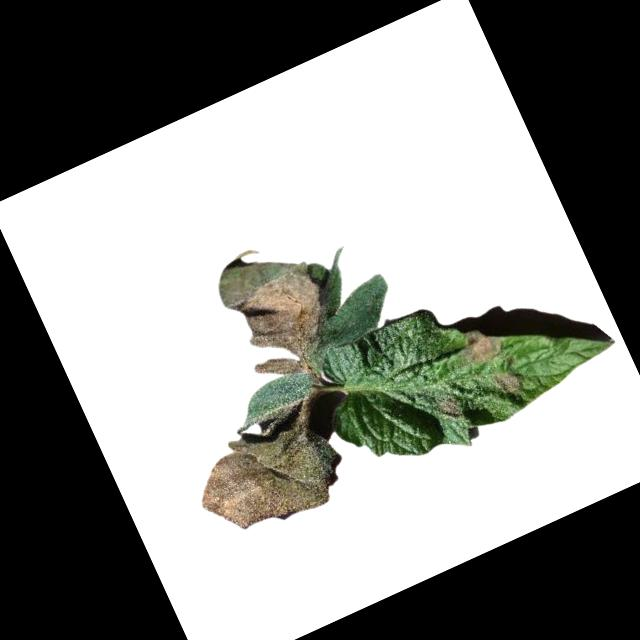Late_blight: (182, 399, 357, 551), (207, 228, 353, 391), (459, 323, 506, 370), (493, 366, 527, 400), (439, 393, 466, 422)
